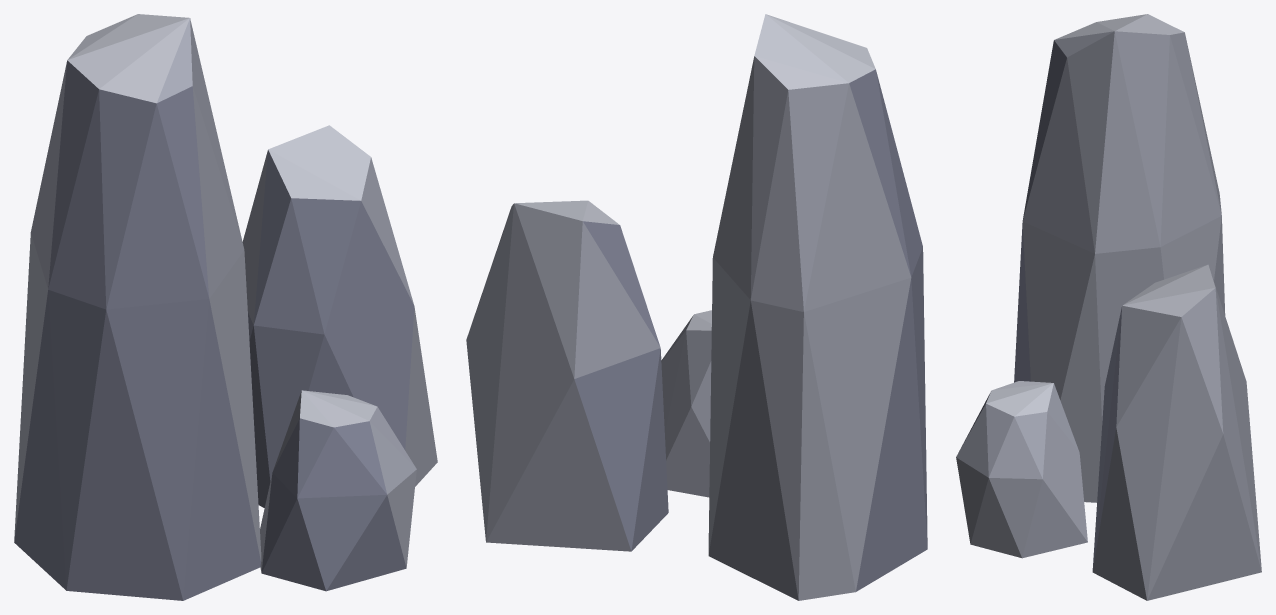
The model's file is stone_tallA.glb.
3 views of the same model, side by side, from view 1: azimuth 30°, elevation 25°; view 2: azimuth 150°, elevation 25°; view 3: azimuth 270°, elevation 25° (orthographic). The views are drawn at different scales.
Visible parts, largest first — view 1: stone_tallA; view 2: stone_tallA; view 3: stone_tallA.
Boxes of the visible parts, x1=… form: stone_tallA: x1=14, y1=14, x2=437, y2=600; stone_tallA: x1=466, y1=14, x2=927, y2=600; stone_tallA: x1=956, y1=14, x2=1261, y2=600.
Bounding box in the file's own units: 0.8199 × 0.9962 × 0.6052.
Materials: 1 (1 with a texture image).
